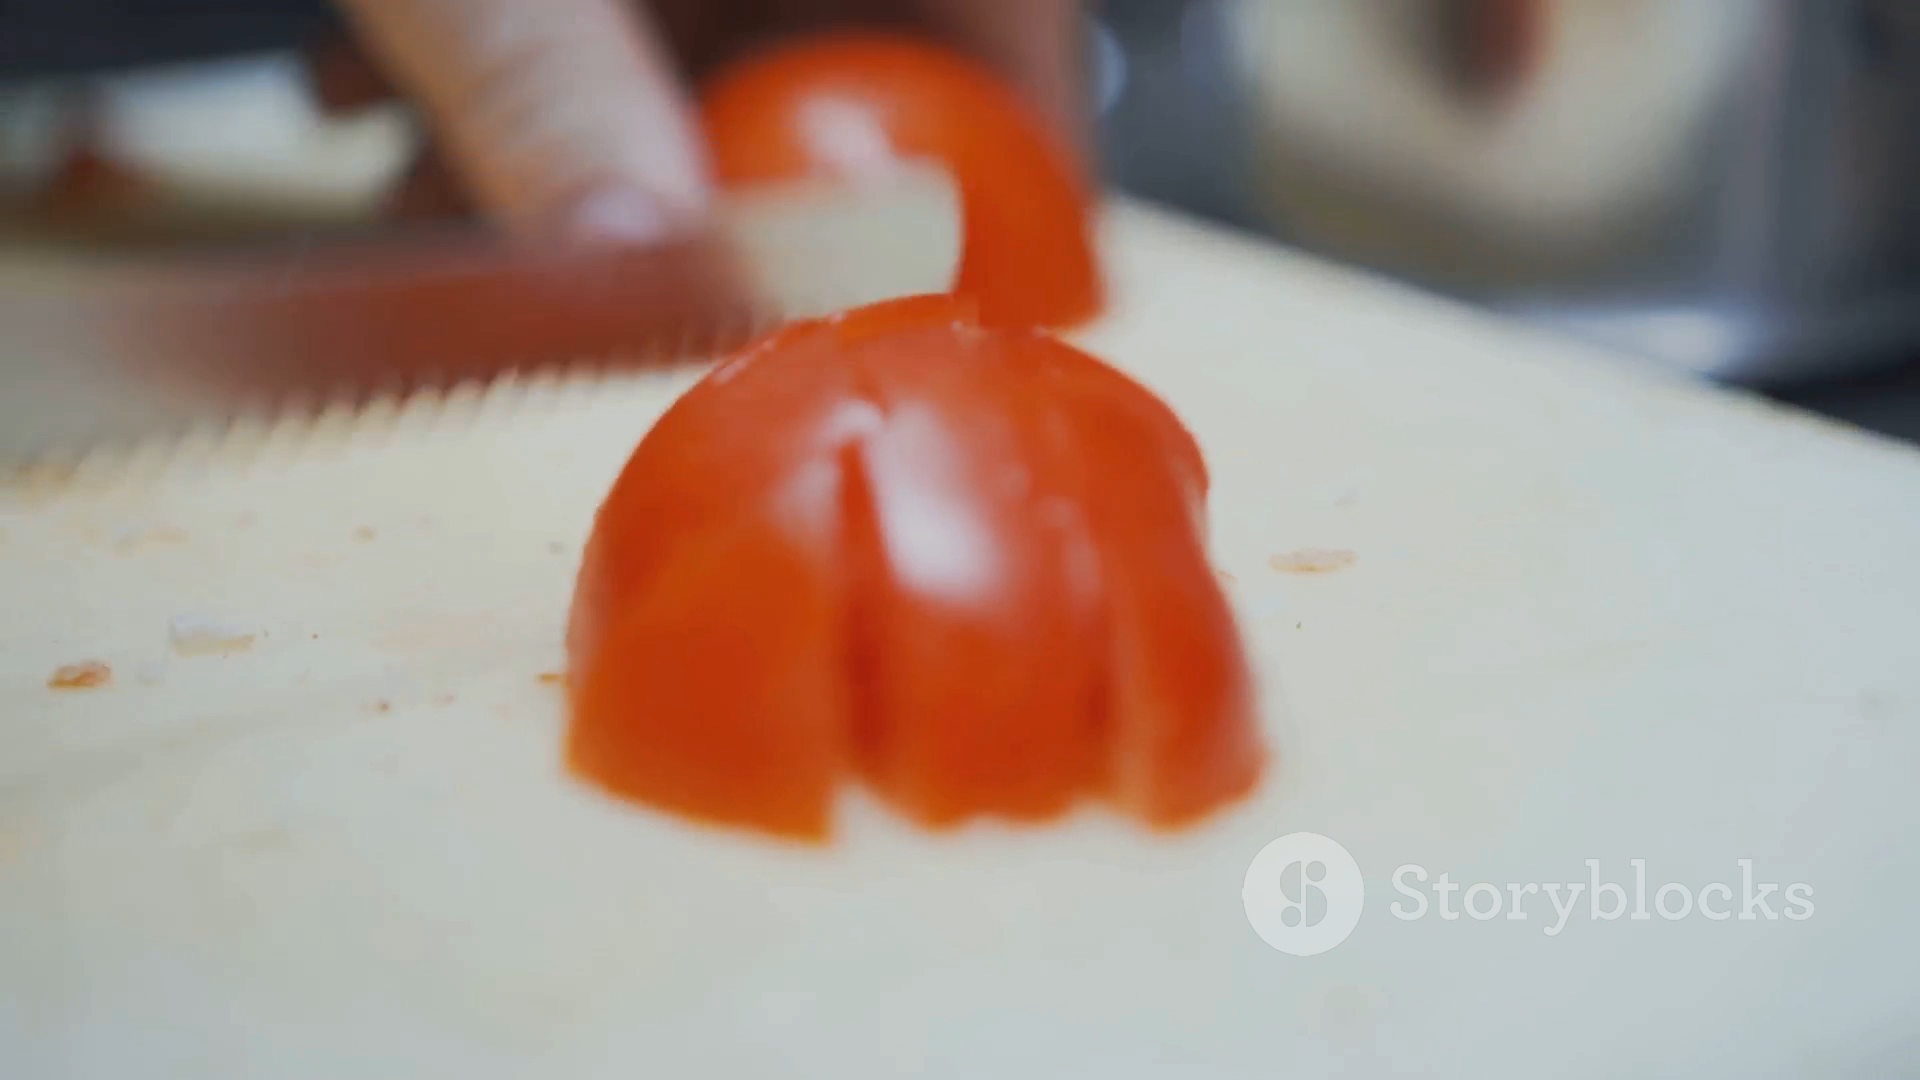cortante: (0, 164, 971, 509)
